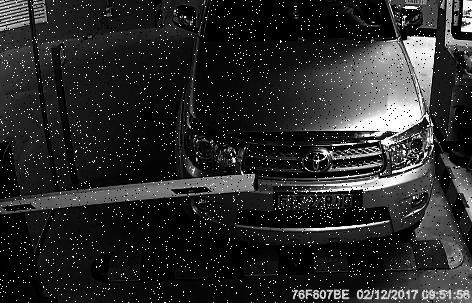License-plate: (274, 188, 364, 223)
